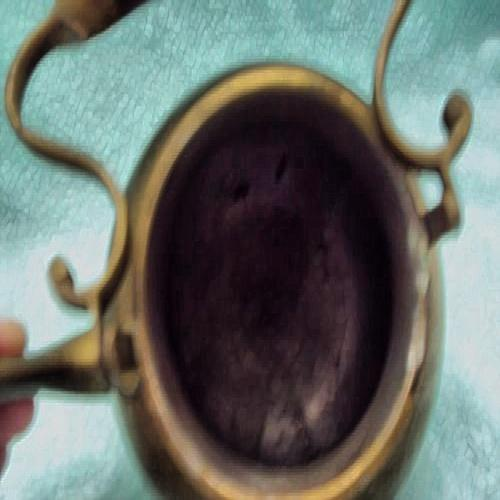kettle: (57, 63, 458, 486)
